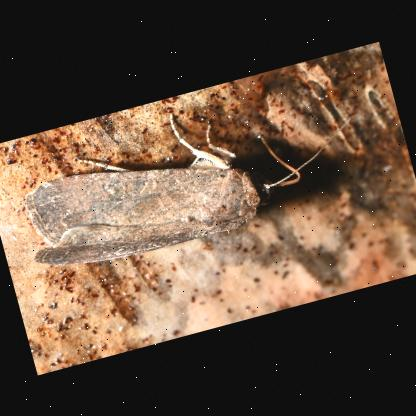Fall Armyworm Moth: (3, 64, 374, 286)
